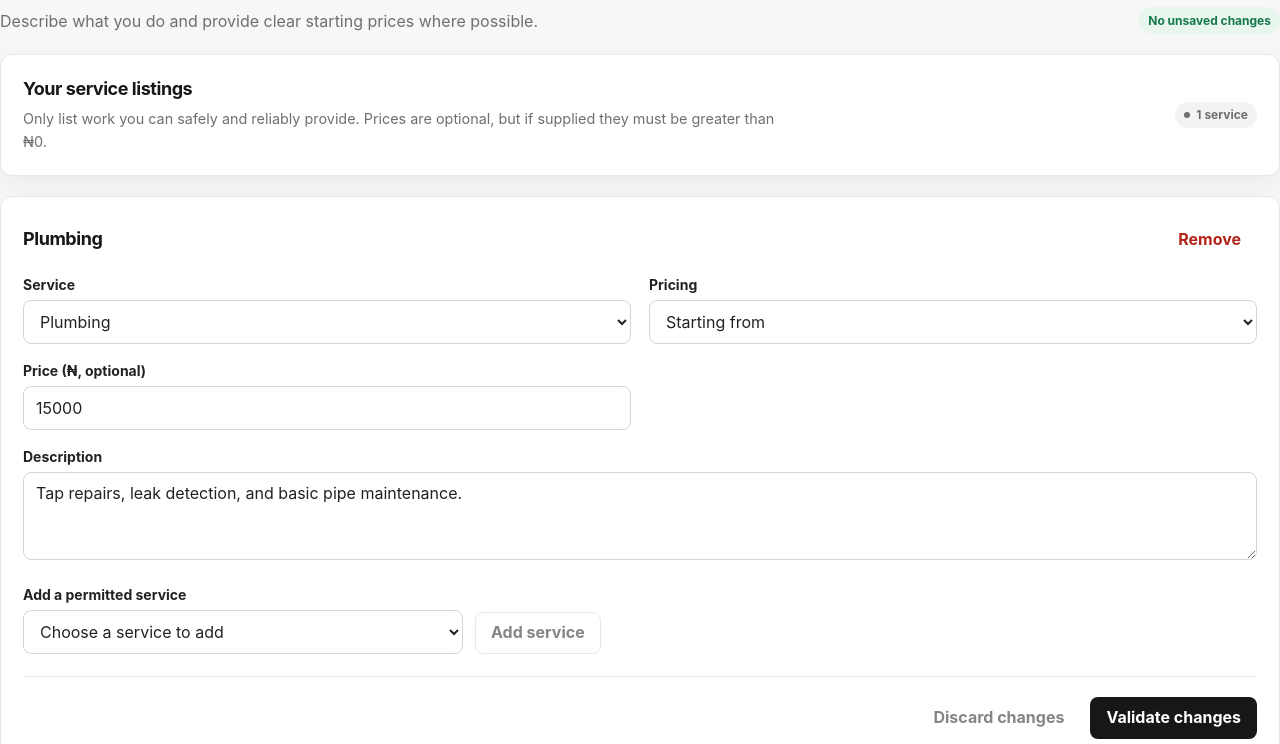
Scenario: provider service management › adds, edits, and removes permitted services
Select "Cleaning" in the dropdown labelled "Add a permitted service" at point(243, 632), box [23,610,463,654]
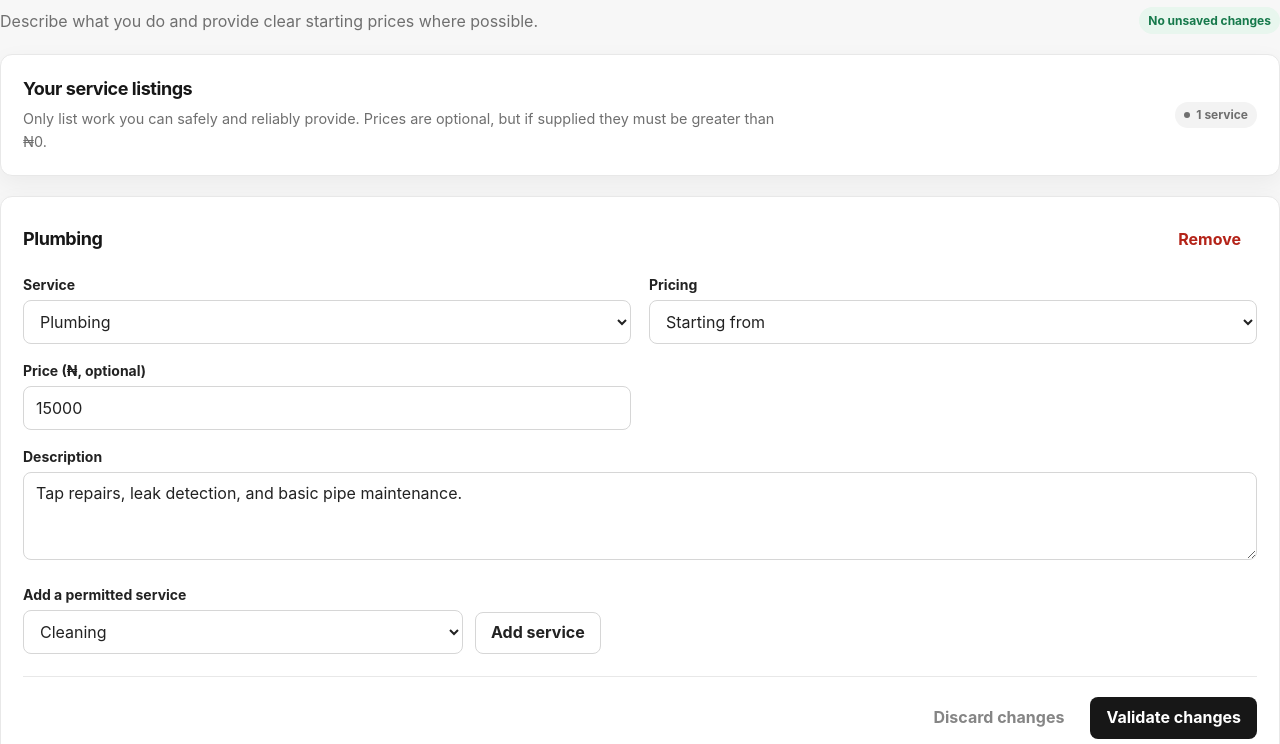
Click the button "Add service" at point(538, 633), box [475,612,601,654]
(page scrolled)
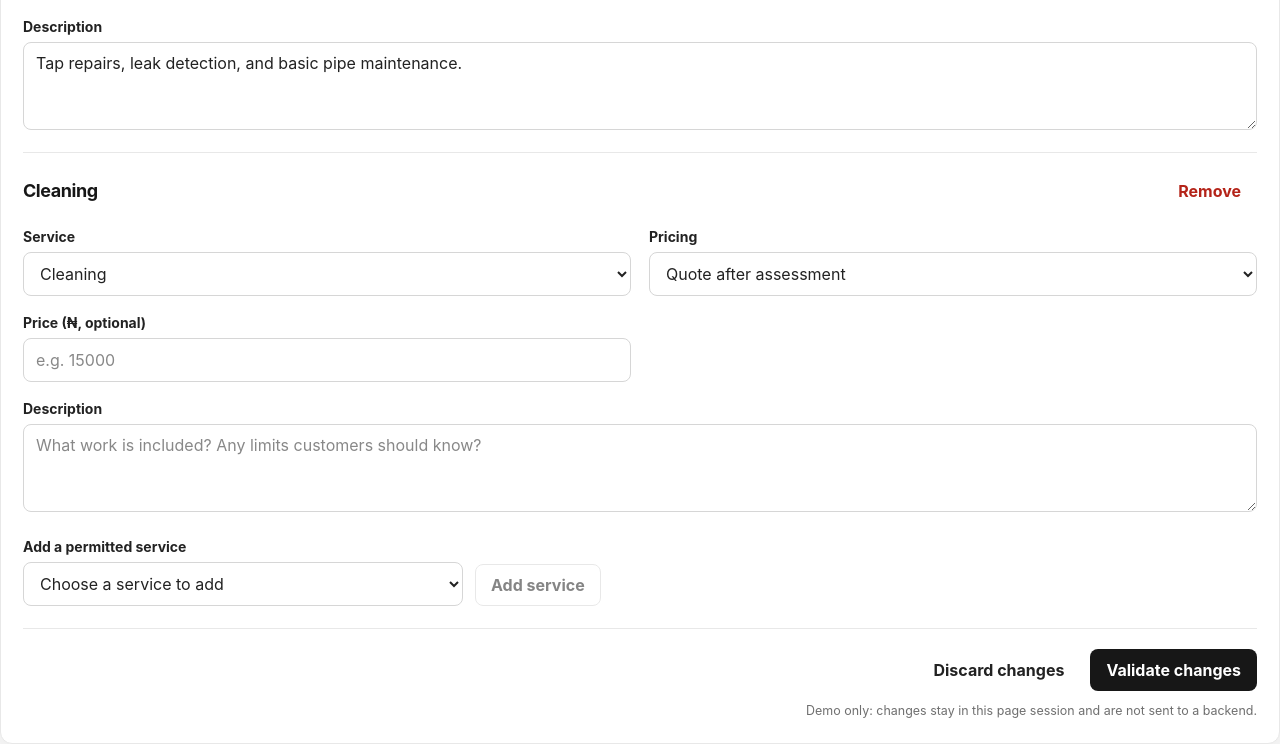
Result: the number of fields labelled "Service" is 2
Result: the heading "Cleaning" is shown at [23,179,98,204]
Type "Home cleaning and tidy-up services." into the text box labelled "Description" below "Cleaning" at point(640, 468), box [23,424,1257,512]
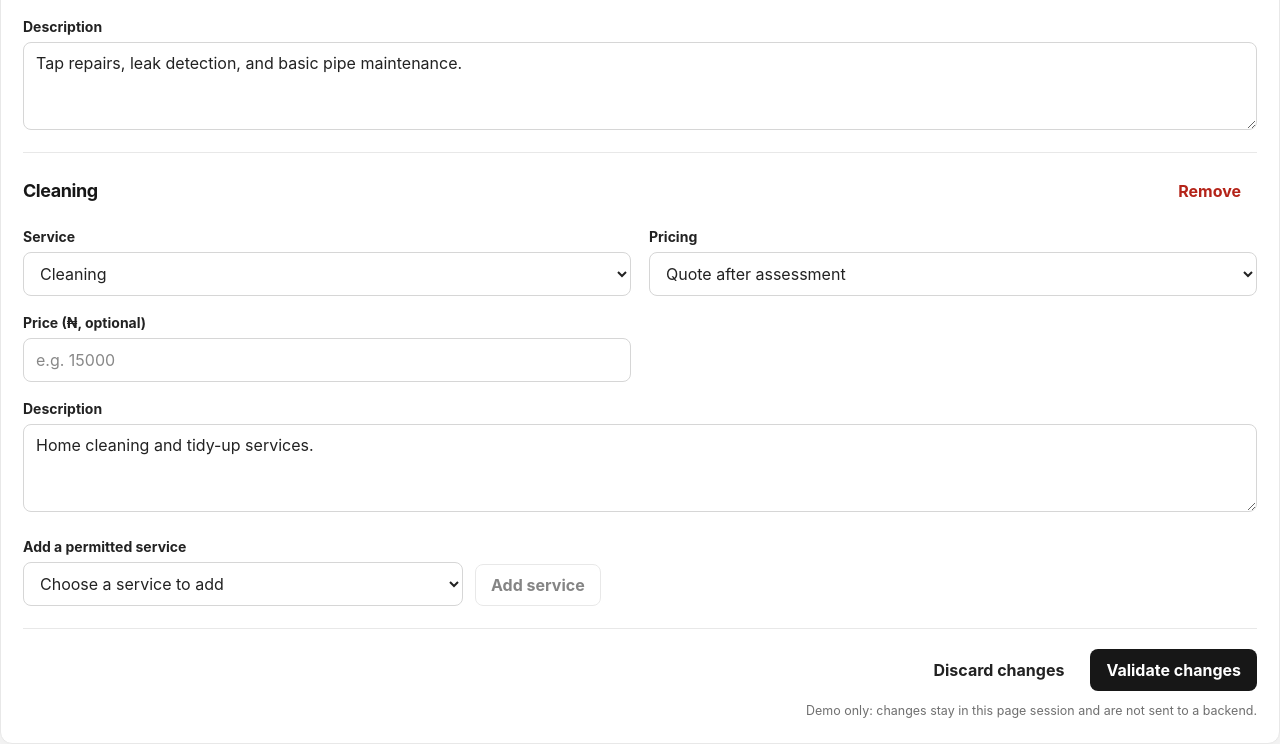
Click the button with aria-label "Remove Cleaning" at point(1210, 192), box [1162,171,1257,212]
(page scrolled)
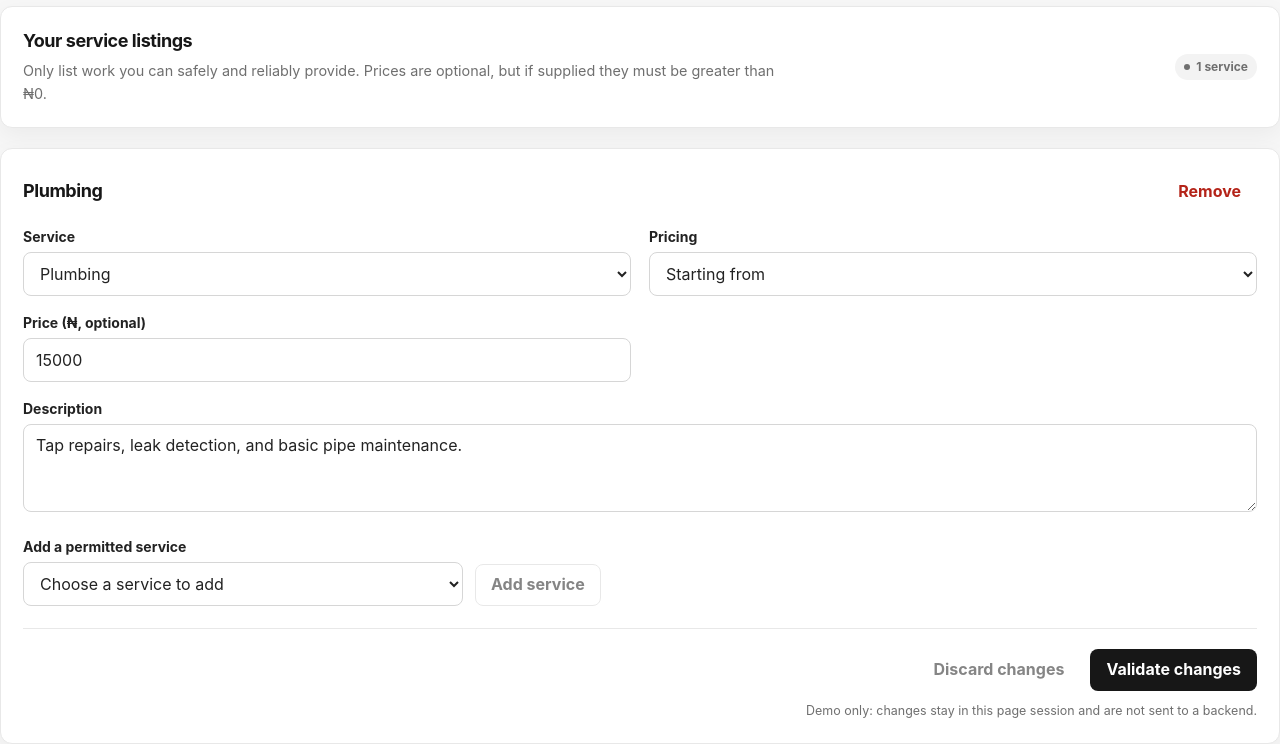
Result: the heading "Cleaning" is gone
